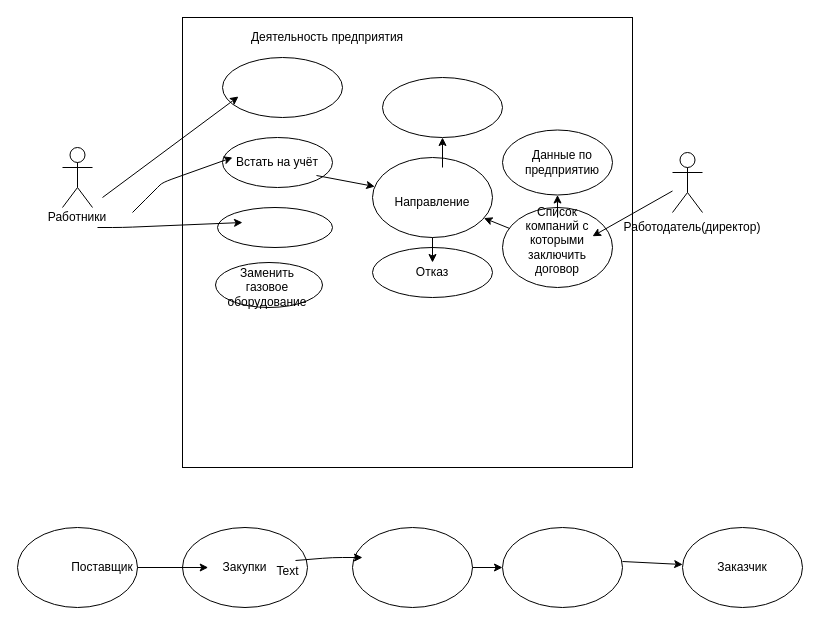
Some shapes in this 820 by 625 pixel diagram are drawn without their labels. The box of each missing label's shape, as (x1, y1, x2, y2) in pixels:
Доставка: (502, 526, 622, 608)
Заключить договор с предприятием: (222, 56, 342, 118)
Заключить договора с работодателем и работником: (382, 76, 502, 138)
Производство: (352, 526, 472, 608)
Список вакансий: (216, 206, 332, 248)
